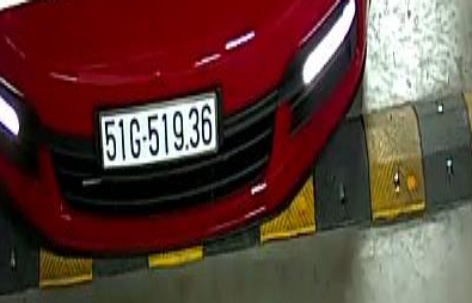plate: (99, 98, 220, 168)
